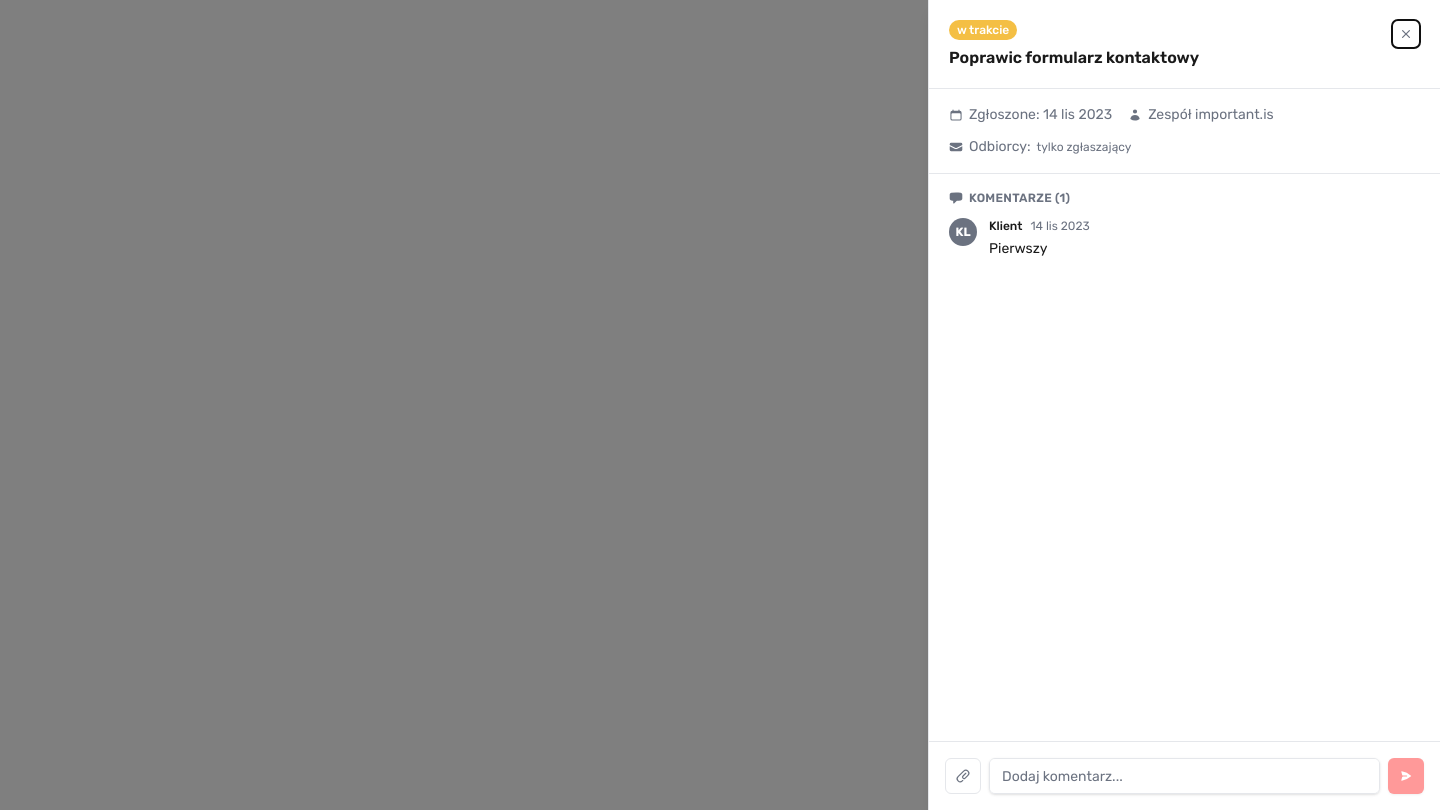
wysylanie komentarza › komentarz idzie POST-em ze slugiem i dopisuje sie na KONCU watku
Expected: the text "Pierwszy" is shown, left=989, top=240, right=1048, bottom=257
In the text box with placeholder "Dodaj komentarz...": (1184, 776) left=989, top=758, right=1380, bottom=794, type "Nowy"
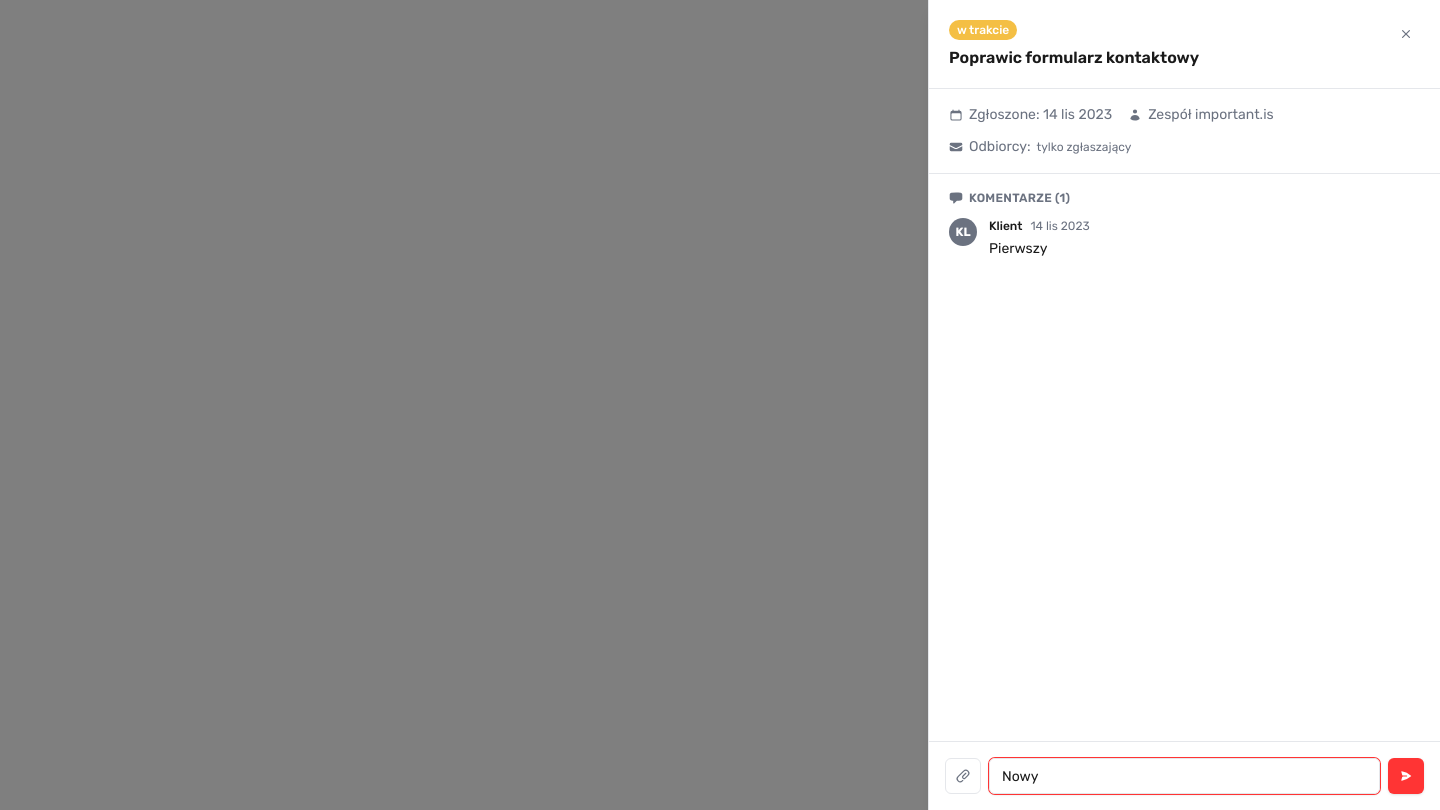
Click the button named "Wyślij komentarz": (1406, 776) left=1388, top=758, right=1424, bottom=794
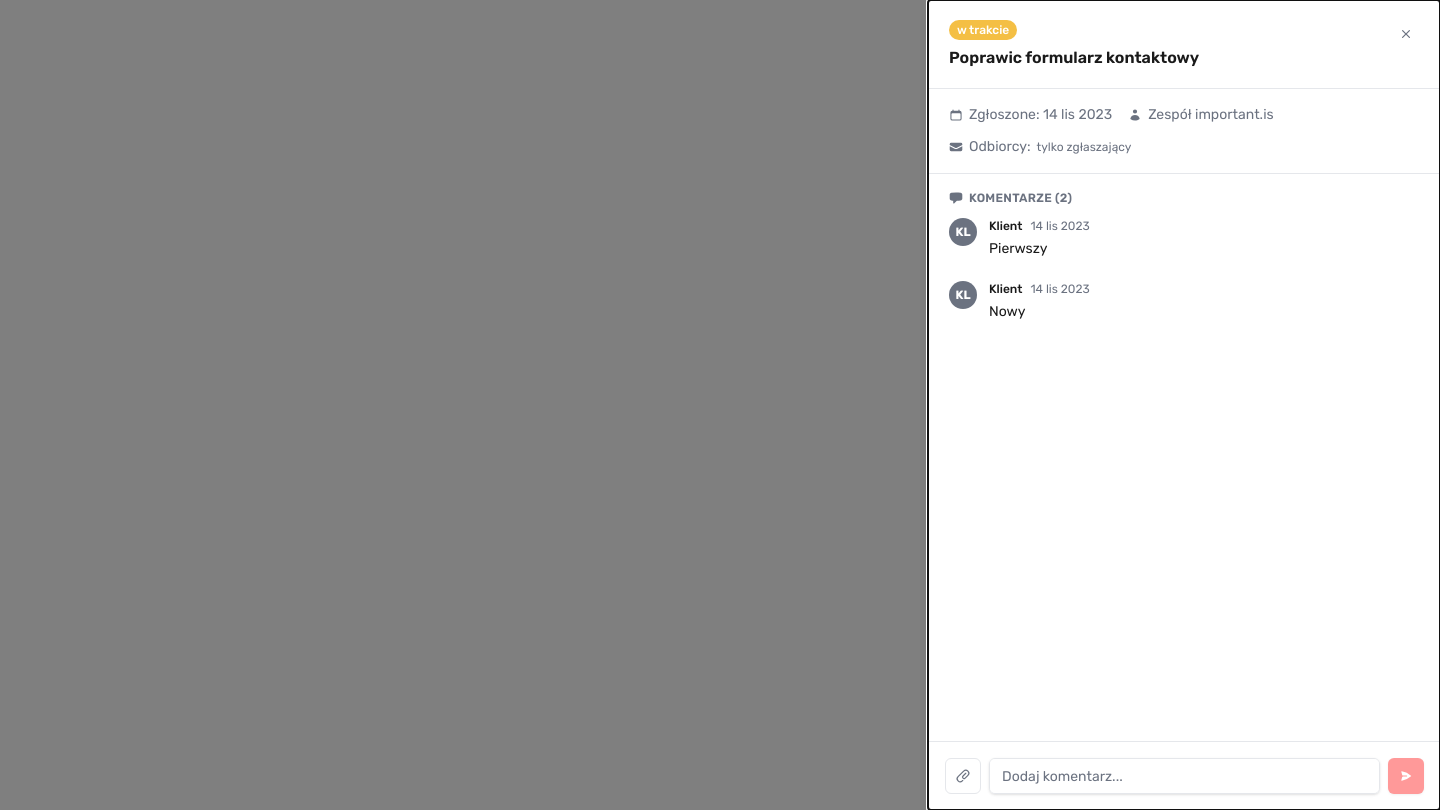
Expected: the text "Nowy" is shown, left=989, top=303, right=1026, bottom=320
